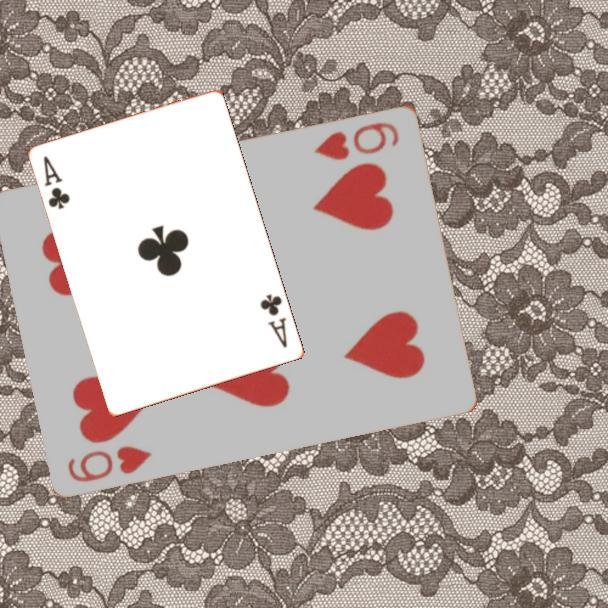c01: (257, 291, 290, 351), (40, 153, 73, 212)
h06: (311, 118, 403, 163), (64, 441, 155, 485)
